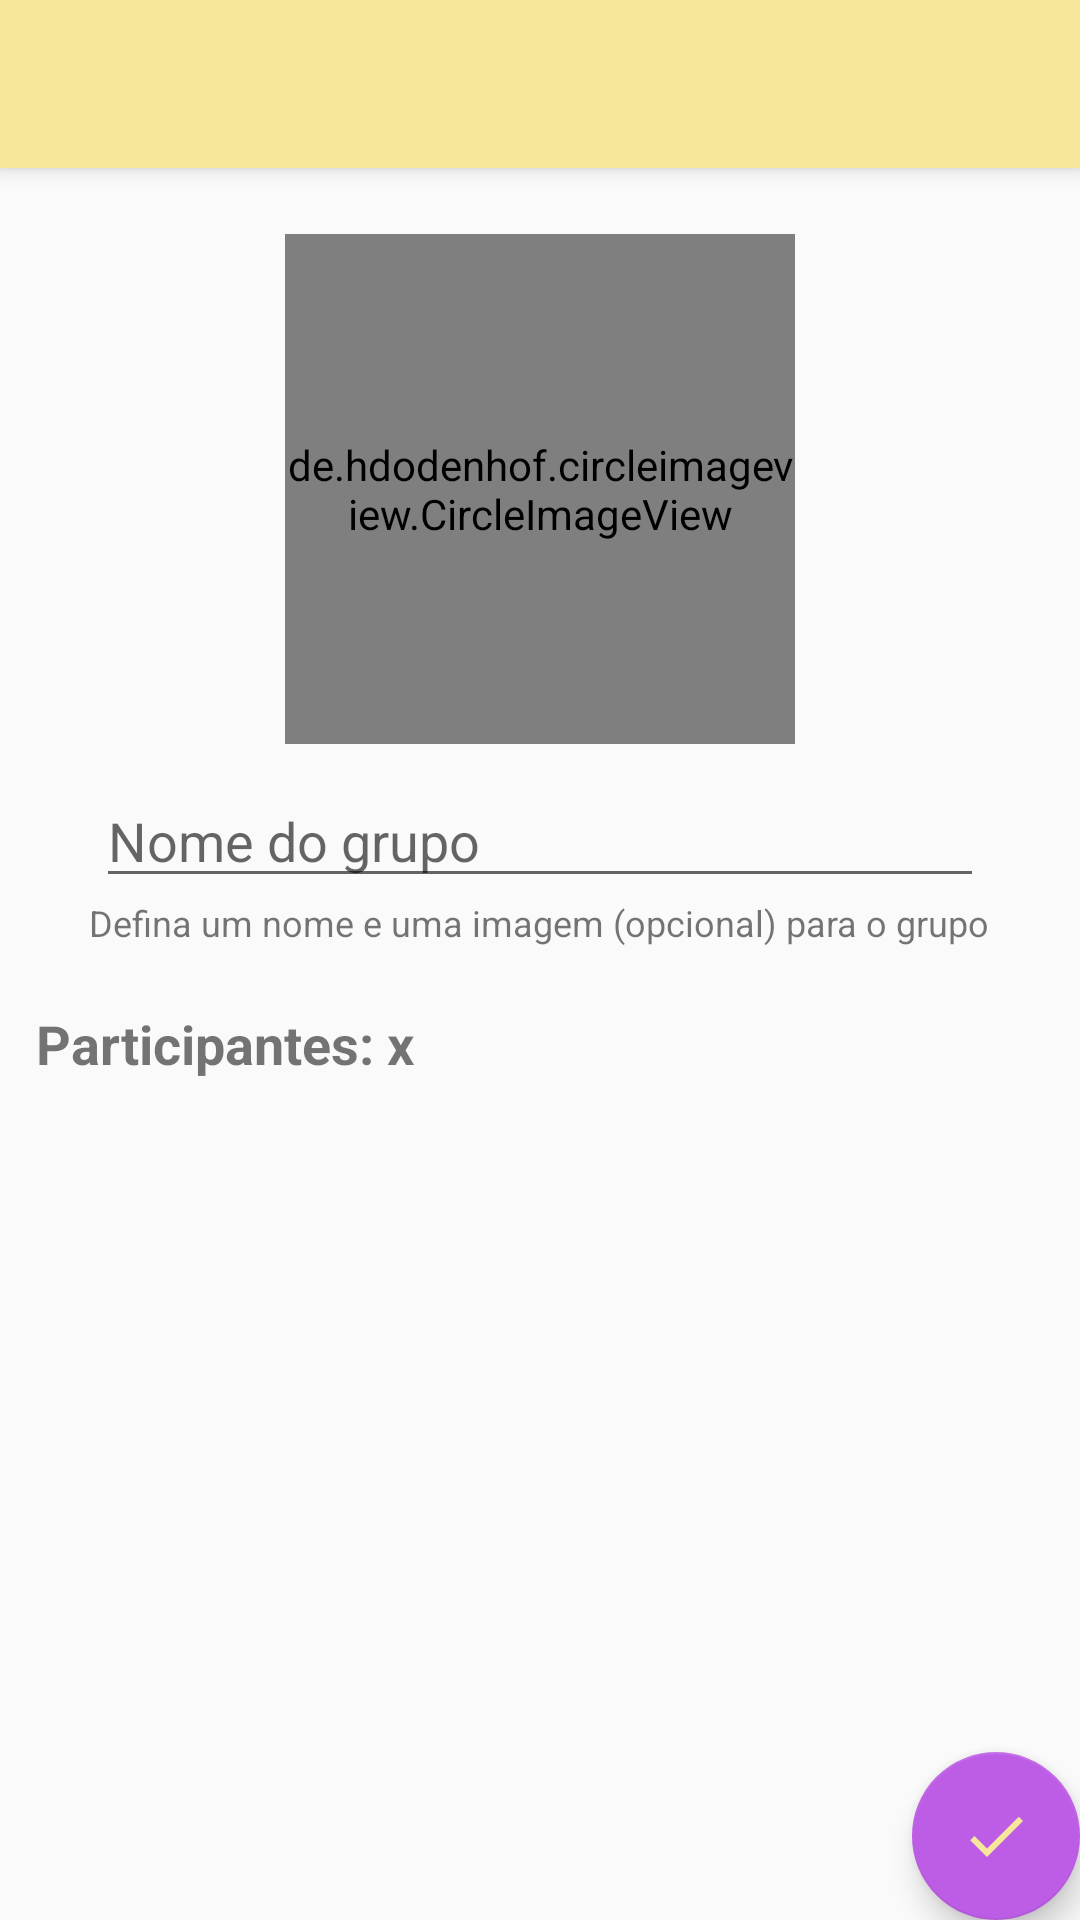

Icons on this 1080w x 1920h Android screen, each with its box as (x1, y1, x2, y2):
check: (912, 1752, 1080, 1920)
